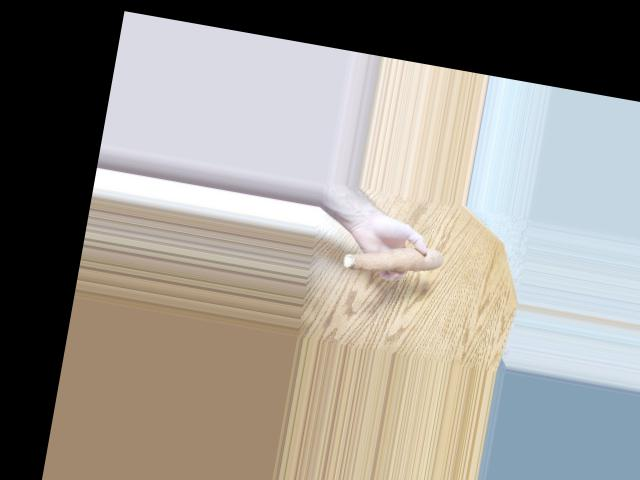sweet_potato: (338, 239, 448, 283)
